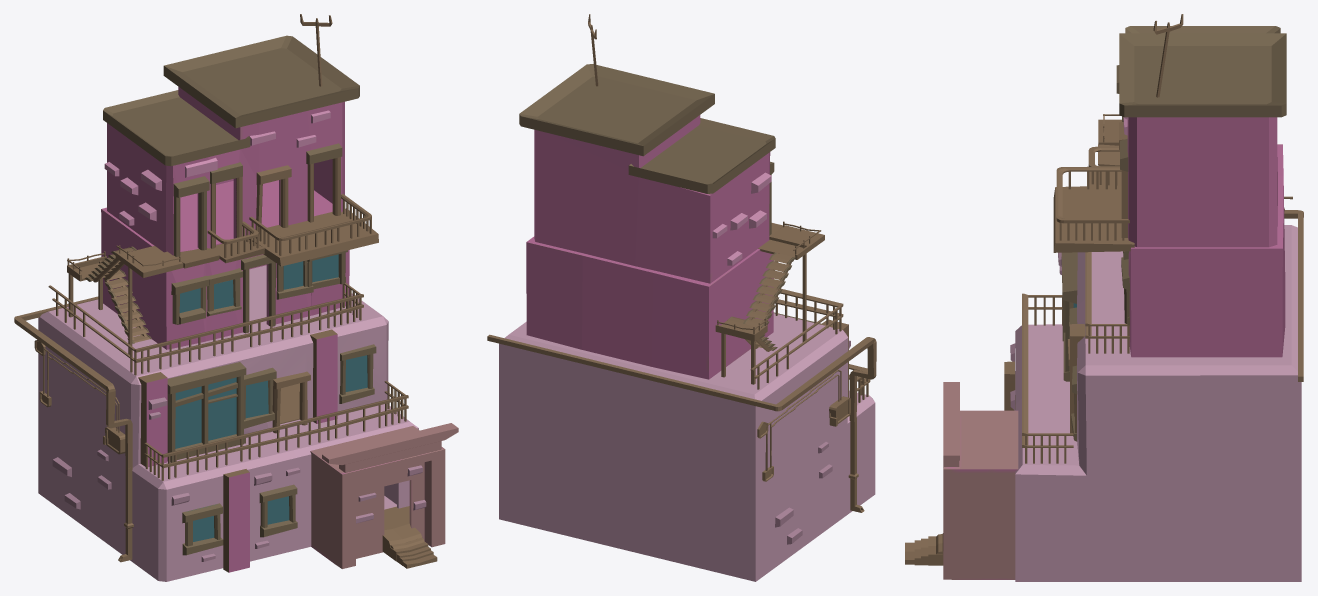
The model's file is SM_House_2.fbx.
3 renders of one model, left to right at view 1: azimuth 30°, elevation 25°; view 2: azimuth 150°, elevation 25°; view 3: azimuth 270°, elevation 25°, orthographic. The views are drawn at different scales.
Parts seen in each view (by area): view 1: SM_House_2; view 2: SM_House_2; view 3: SM_House_2.
Boxes of the visible parts, x1,y1,x2,y2 form: SM_House_2: (14, 14, 458, 581); SM_House_2: (487, 14, 876, 581); SM_House_2: (905, 14, 1303, 581).
Bounding box in the file's own units: 1420 × 1432 × 2165.
1 material, 1 textured.
